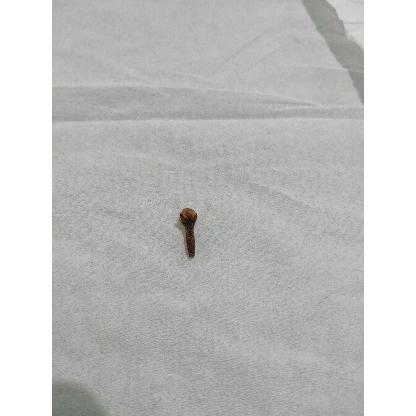sedang: (178, 208, 198, 260)
